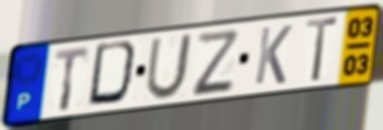D: (85, 38, 143, 108)
K: (252, 23, 294, 87)
T: (53, 44, 92, 114), (303, 15, 341, 85)
U: (143, 32, 195, 102)
Z: (191, 28, 239, 99)
